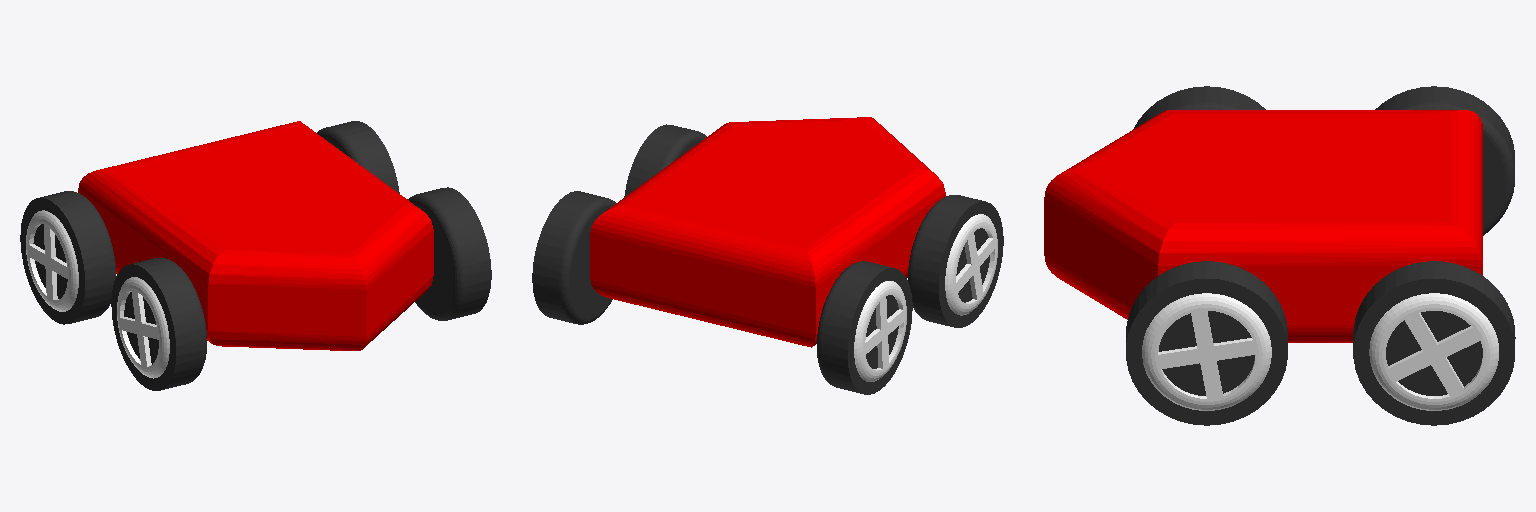
URDF robot description (robot_prueba_2):
<?xml version="1.0" encoding="utf-8"?>
<!-- This URDF was automatically created by SolidWorks to URDF Exporter! Originally created by [author] ([email redacted]) 
     Commit Version: 1.6.0-1-g15f4949  Build Version: 1.6.7594.29634
     For more information, please see http://wiki.ros.org/sw_urdf_exporter -->
<robot
  name="robot_prueba_2">
  <link
    name="base_car">
    <inertial>
      <origin
        xyz="-0.0006245 0.00049097 -0.0031688"
        rpy="0 0 0" />
      <mass
        value="0.45576" />
      <inertia
        ixx="0.00058942"
        ixy="-1.7857E-09"
        ixz="-1.0054E-09"
        iyy="0.00087806"
        iyz="-2.9187E-07"
        izz="0.00040358" />
    </inertial>
    <visual>
      <origin
        xyz="0 0 0"
        rpy="0 0 0" />
      <geometry>
        <mesh
          filename="package://robot_prueba_2/meshes/base_car.STL" />
      </geometry>
      <material
        name="">
        <color
          rgba="1 0 0 1" />
      </material>
    </visual>
    <collision>
      <origin
        xyz="0 0 0"
        rpy="0 0 0" />
      <geometry>
        <mesh
          filename="package://robot_prueba_2/meshes/base_car.STL" />
      </geometry>
    </collision>
  </link>
  <link
    name="wheel1_link">
    <inertial>
      <origin
        xyz="0.0076383 0 0"
        rpy="0 0 0" />
      <mass
        value="0.028764" />
      <inertia
        ixx="9.0239E-06"
        ixy="-2.5529E-23"
        ixz="1.5353E-22"
        iyy="5.0392E-06"
        iyz="-1.0588E-22"
        izz="5.0392E-06" />
    </inertial>
    <visual>
      <origin
        xyz="0 0 0"
        rpy="0 0 0" />
      <geometry>
        <mesh
          filename="package://robot_prueba_2/meshes/wheel1_link.STL" />
      </geometry>
      <material
        name="">
        <color
          rgba="0.25098 0.25098 0.25098 1" />
      </material>
    </visual>
    <collision>
      <origin
        xyz="0 0 0"
        rpy="0 0 0" />
      <geometry>
        <mesh
          filename="package://robot_prueba_2/meshes/wheel1_link.STL" />
      </geometry>
    </collision>
  </link>
  <joint
    name="wheel1_joint"
    type="continuous">
    <origin
      xyz="0.054375 -0.02266 -0.0094392"
      rpy="0.16794 0 0" />
    <parent
      link="base_car" />
    <child
      link="wheel1_link" />
    <axis
      xyz="1 0 0" />
  </joint>
  <link
    name="flag1">
    <inertial>
      <origin
        xyz="0.00091134 0 1.7347E-18"
        rpy="0 0 0" />
      <mass
        value="0.0013585" />
      <inertia
        ixx="2.8399E-07"
        ixy="-2.1238E-25"
        ixz="-9.2299E-25"
        iyy="1.4242E-07"
        iyz="3.3087E-24"
        izz="1.4242E-07" />
    </inertial>
    <visual>
      <origin
        xyz="0 0 0"
        rpy="0 0 0" />
      <geometry>
        <mesh
          filename="package://robot_prueba_2/meshes/flag1.STL" />
      </geometry>
      <material
        name="">
        <color
          rgba="1 1 1 1" />
      </material>
    </visual>
    <collision>
      <origin
        xyz="0 0 0"
        rpy="0 0 0" />
      <geometry>
        <mesh
          filename="package://robot_prueba_2/meshes/flag1.STL" />
      </geometry>
    </collision>
  </link>
  <joint
    name="flag1_joint"
    type="fixed">
    <origin
      xyz="0.015 0 0"
      rpy="0 0 0" />
    <parent
      link="wheel1_link" />
    <child
      link="flag1" />
    <axis
      xyz="0 0 0" />
  </joint>
  <link
    name="wheel2_link">
    <inertial>
      <origin
        xyz="0.0076383 0 0"
        rpy="0 0 0" />
      <mass
        value="0.028764" />
      <inertia
        ixx="9.0239E-06"
        ixy="-1.1213E-22"
        ixz="-4.4832E-23"
        iyy="5.0392E-06"
        iyz="-2.1176E-22"
        izz="5.0392E-06" />
    </inertial>
    <visual>
      <origin
        xyz="0 0 0"
        rpy="0 0 0" />
      <geometry>
        <mesh
          filename="package://robot_prueba_2/meshes/wheel2_link.STL" />
      </geometry>
      <material
        name="">
        <color
          rgba="0.25098 0.25098 0.25098 1" />
      </material>
    </visual>
    <collision>
      <origin
        xyz="0 0 0"
        rpy="0 0 0" />
      <geometry>
        <mesh
          filename="package://robot_prueba_2/meshes/wheel2_link.STL" />
      </geometry>
    </collision>
  </link>
  <joint
    name="wheel2_joint"
    type="continuous">
    <origin
      xyz="0.054375 0.04734 -0.0094392"
      rpy="0.49394 0 0" />
    <parent
      link="base_car" />
    <child
      link="wheel2_link" />
    <axis
      xyz="1 0 0" />
  </joint>
  <link
    name="flag2">
    <inertial>
      <origin
        xyz="0.00091134 0 0"
        rpy="0 0 0" />
      <mass
        value="0.0013585" />
      <inertia
        ixx="2.8399E-07"
        ixy="5.0094E-25"
        ixz="6.7923E-25"
        iyy="1.4242E-07"
        iyz="-9.9262E-24"
        izz="1.4242E-07" />
    </inertial>
    <visual>
      <origin
        xyz="0 0 0"
        rpy="0 0 0" />
      <geometry>
        <mesh
          filename="package://robot_prueba_2/meshes/flag2.STL" />
      </geometry>
      <material
        name="">
        <color
          rgba="1 1 1 1" />
      </material>
    </visual>
    <collision>
      <origin
        xyz="0 0 0"
        rpy="0 0 0" />
      <geometry>
        <mesh
          filename="package://robot_prueba_2/meshes/flag2.STL" />
      </geometry>
    </collision>
  </link>
  <joint
    name="flag2_joint"
    type="fixed">
    <origin
      xyz="0.015 0 0"
      rpy="0 0 0" />
    <parent
      link="wheel2_link" />
    <child
      link="flag2" />
    <axis
      xyz="0 0 0" />
  </joint>
  <link
    name="wheel3_link">
    <inertial>
      <origin
        xyz="0.0076383 0 0"
        rpy="0 0 0" />
      <mass
        value="0.028764" />
      <inertia
        ixx="9.0239E-06"
        ixy="1.8245E-23"
        ixz="0"
        iyy="5.0392E-06"
        iyz="0"
        izz="5.0392E-06" />
    </inertial>
    <visual>
      <origin
        xyz="0 0 0"
        rpy="0 0 0" />
      <geometry>
        <mesh
          filename="package://robot_prueba_2/meshes/wheel3_link.STL" />
      </geometry>
      <material
        name="">
        <color
          rgba="0.25098 0.25098 0.25098 1" />
      </material>
    </visual>
    <collision>
      <origin
        xyz="0 0 0"
        rpy="0 0 0" />
      <geometry>
        <mesh
          filename="package://robot_prueba_2/meshes/wheel3_link.STL" />
      </geometry>
    </collision>
  </link>
  <joint
    name="wheel3_joint"
    type="continuous">
    <origin
      xyz="-0.055625 -0.02266 -0.0094392"
      rpy="1.8227 0 -3.1416" />
    <parent
      link="base_car" />
    <child
      link="wheel3_link" />
    <axis
      xyz="1 0 0" />
  </joint>
  <link
    name="flag3">
    <inertial>
      <origin
        xyz="0.00091134 -1.7347E-18 -3.4694E-18"
        rpy="0 0 0" />
      <mass
        value="0.0013585" />
      <inertia
        ixx="2.8399E-07"
        ixy="2.0567E-25"
        ixz="5.5604E-24"
        iyy="1.4242E-07"
        iyz="-3.3087E-24"
        izz="1.4242E-07" />
    </inertial>
    <visual>
      <origin
        xyz="0 0 0"
        rpy="0 0 0" />
      <geometry>
        <mesh
          filename="package://robot_prueba_2/meshes/flag3.STL" />
      </geometry>
      <material
        name="">
        <color
          rgba="1 1 1 1" />
      </material>
    </visual>
    <collision>
      <origin
        xyz="0 0 0"
        rpy="0 0 0" />
      <geometry>
        <mesh
          filename="package://robot_prueba_2/meshes/flag3.STL" />
      </geometry>
    </collision>
  </link>
  <joint
    name="flag3_joint"
    type="fixed">
    <origin
      xyz="0.015 0 0"
      rpy="0 0 0" />
    <parent
      link="wheel3_link" />
    <child
      link="flag3" />
    <axis
      xyz="0 0 0" />
  </joint>
  <link
    name="wheel4_link">
    <inertial>
      <origin
        xyz="0.0076383 0 0"
        rpy="0 0 0" />
      <mass
        value="0.028764" />
      <inertia
        ixx="9.0239E-06"
        ixy="1.8245E-23"
        ixz="0"
        iyy="5.0392E-06"
        iyz="0"
        izz="5.0392E-06" />
    </inertial>
    <visual>
      <origin
        xyz="0 0 0"
        rpy="0 0 0" />
      <geometry>
        <mesh
          filename="package://robot_prueba_2/meshes/wheel4_link.STL" />
      </geometry>
      <material
        name="">
        <color
          rgba="0.25098 0.25098 0.25098 1" />
      </material>
    </visual>
    <collision>
      <origin
        xyz="0 0 0"
        rpy="0 0 0" />
      <geometry>
        <mesh
          filename="package://robot_prueba_2/meshes/wheel4_link.STL" />
      </geometry>
    </collision>
  </link>
  <joint
    name="wheel4_joint"
    type="continuous">
    <origin
      xyz="-0.055625 0.04734 -0.0094392"
      rpy="1.6484 0 -3.1416" />
    <parent
      link="base_car" />
    <child
      link="wheel4_link" />
    <axis
      xyz="1 0 0" />
  </joint>
  <link
    name="flag4">
    <inertial>
      <origin
        xyz="0.00091134 1.7347E-18 6.9389E-18"
        rpy="0 0 0" />
      <mass
        value="0.0013585" />
      <inertia
        ixx="2.8399E-07"
        ixy="-5.1379E-25"
        ixz="1.2628E-24"
        iyy="1.4242E-07"
        iyz="7.4446E-24"
        izz="1.4242E-07" />
    </inertial>
    <visual>
      <origin
        xyz="0 0 0"
        rpy="0 0 0" />
      <geometry>
        <mesh
          filename="package://robot_prueba_2/meshes/flag4.STL" />
      </geometry>
      <material
        name="">
        <color
          rgba="1 1 1 1" />
      </material>
    </visual>
    <collision>
      <origin
        xyz="0 0 0"
        rpy="0 0 0" />
      <geometry>
        <mesh
          filename="package://robot_prueba_2/meshes/flag4.STL" />
      </geometry>
    </collision>
  </link>
  <joint
    name="flag4_joint"
    type="fixed">
    <origin
      xyz="0.015 0 0"
      rpy="0 0 0" />
    <parent
      link="wheel4_link" />
    <child
      link="flag4" />
    <axis
      xyz="0 0 0" />
  </joint>
</robot>

--- Render facts (derived) ---
Views: 3 orthographic renders of the robot side by side, from view 1: azimuth 30°, elevation 25°; view 2: azimuth 150°, elevation 25°; view 3: azimuth 270°, elevation 25°.
Robot: robot_prueba_2 — 9 links, 8 joints (4 continuous, 4 fixed); root link base_car; default pose: all joints at 0.
Visible links, largest first — view 1: base_car, wheel1_link, wheel3_link, wheel4_link, flag4, flag3, wheel2_link; view 2: base_car, wheel2_link, wheel4_link, wheel3_link, flag3, flag4, wheel1_link; view 3: base_car, wheel1_link, wheel2_link, flag2, flag1, wheel4_link, wheel3_link.
Link boxes in pixels (left/top/right/bottom): base_car: left=78, top=121, right=433, bottom=350; wheel1_link: left=407, top=187, right=491, bottom=320; wheel3_link: left=111, top=258, right=206, bottom=390; wheel4_link: left=20, top=191, right=115, bottom=324; flag4: left=26, top=210, right=78, bottom=311; flag3: left=117, top=277, right=169, bottom=378; wheel2_link: left=317, top=121, right=399, bottom=193; base_car: left=590, top=117, right=945, bottom=347; wheel2_link: left=532, top=191, right=615, bottom=324; wheel4_link: left=817, top=261, right=912, bottom=394; wheel3_link: left=908, top=195, right=1003, bottom=327; flag3: left=945, top=214, right=997, bottom=315; flag4: left=854, top=281, right=906, bottom=381; wheel1_link: left=624, top=124, right=706, bottom=196; base_car: left=1044, top=110, right=1482, bottom=342; wheel1_link: left=1126, top=261, right=1287, bottom=425; wheel2_link: left=1353, top=261, right=1515, bottom=425; flag2: left=1369, top=293, right=1498, bottom=410; flag1: left=1142, top=293, right=1271, bottom=410; wheel4_link: left=1375, top=86, right=1514, bottom=235; wheel3_link: left=1133, top=86, right=1265, bottom=129.
Bounding box of the posed robot: 0.144 × 0.145 × 0.055 m (x, y, z).
Meshes: 9 distinct files referenced, 9 mesh visuals loaded (9 binary STL).